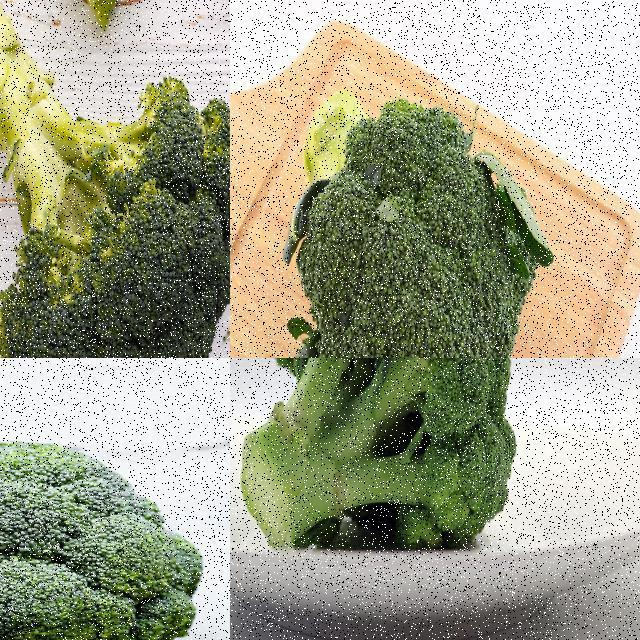broccoli: (0, 0, 229, 357), (277, 85, 539, 357), (239, 358, 523, 553), (0, 440, 204, 639), (46, 0, 156, 47)
